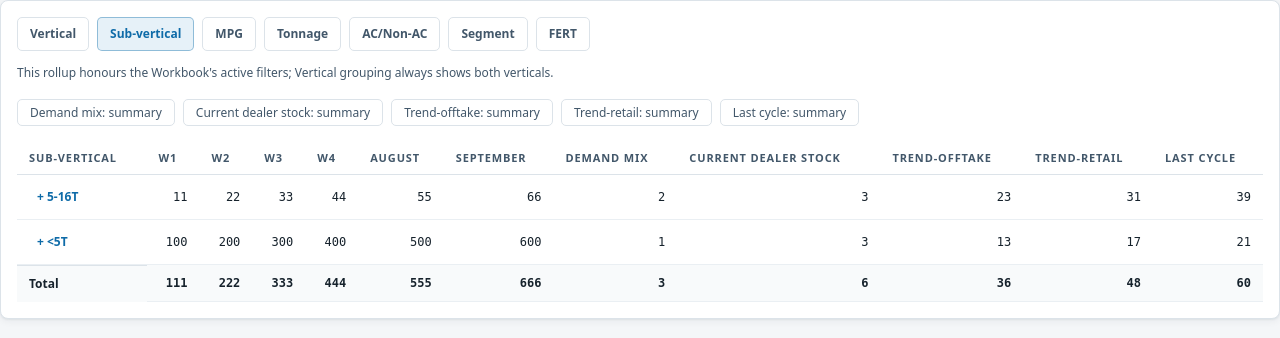
RollupTable › switches the grouping control and re-groups rows by MPG
Click the button "MPG" at (229,34), box x1=202 y1=17 x2=256 y2=51
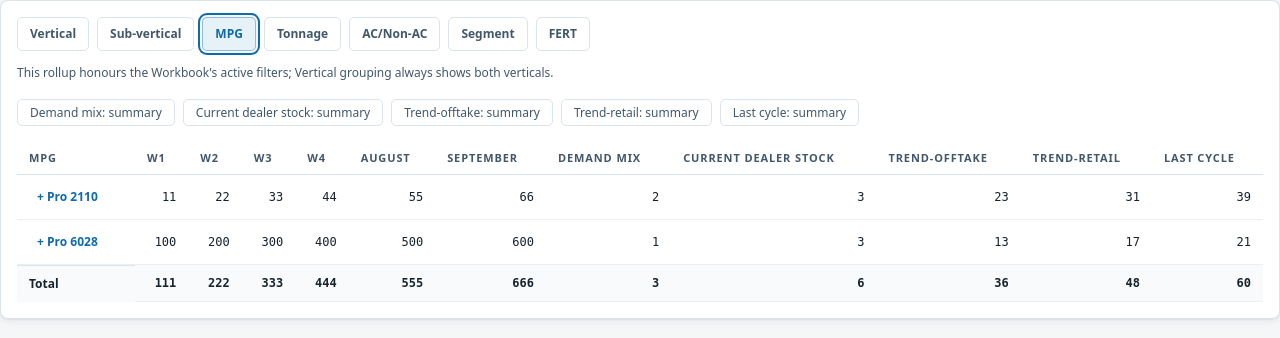
Expected: the row "+ Pro 2110 11 22 33 44 55 66 2 3 23 31 39" is shown, x1=17 y1=175 x2=1263 y2=220
Expected: the row "+ Pro 6028 100 200 300 400 500 600 1 3 13 17 21" is shown, x1=17 y1=220 x2=1263 y2=265
Expected: the button "5-16T" is gone
